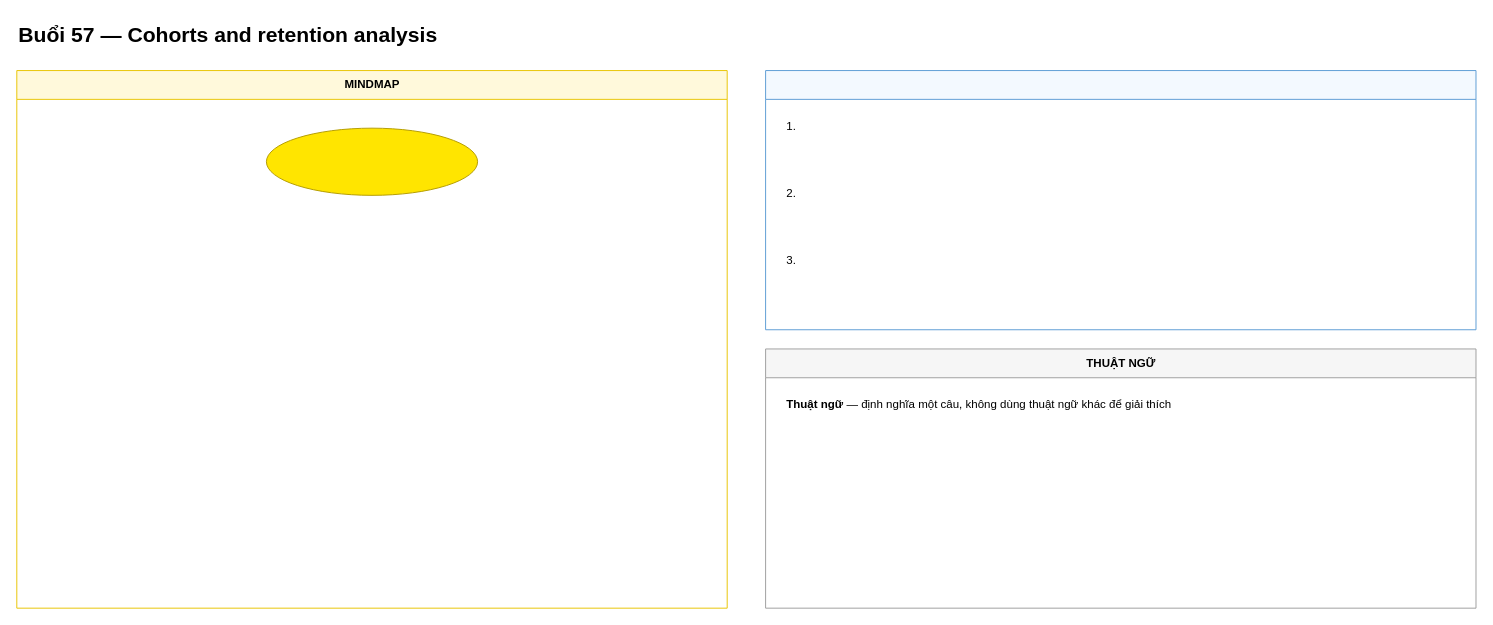
Some shapes in this 1493 by 625 pixel diagram are drawn without their labels. The shapes that lost their labels are listed below. From the top down, each one's box as (x1, y1, x2, y2) in pixels, then its label:
(265, 127, 478, 195): Cohorts and retention analysis
(765, 70, 1476, 330): KEY TAKEAWAY — ba điều phải nhớ
